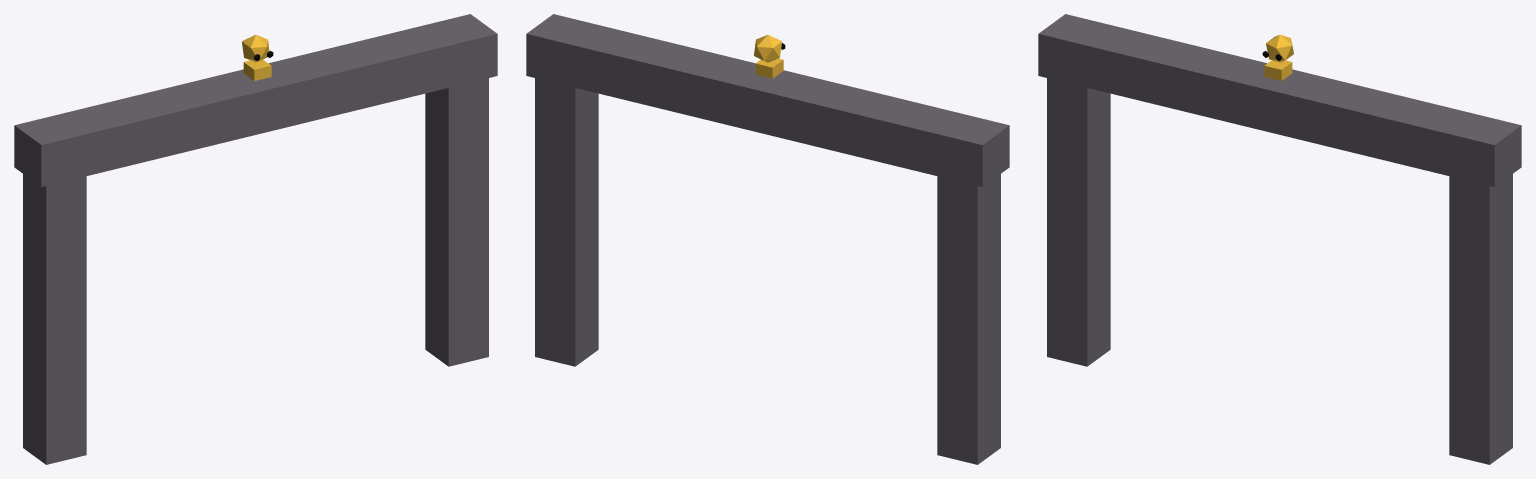
File: Bld_OR_SkullArch_03.glb
3 views of the same model, side by side, from view 1: azimuth 30°, elevation 25°; view 2: azimuth 150°, elevation 25°; view 3: azimuth 330°, elevation 25° (orthographic).
Parts seen in each view (by area): view 1: Bld_OR_SkullArch_03; view 2: Bld_OR_SkullArch_03; view 3: Bld_OR_SkullArch_03.
Part boxes in pixels (left/top/right/bottom): Bld_OR_SkullArch_03: left=14, top=14, right=497, bottom=464; Bld_OR_SkullArch_03: left=526, top=14, right=1009, bottom=464; Bld_OR_SkullArch_03: left=1038, top=14, right=1521, bottom=464.
Size of the model in its own units: 6.8 by 5.24 by 0.7.
